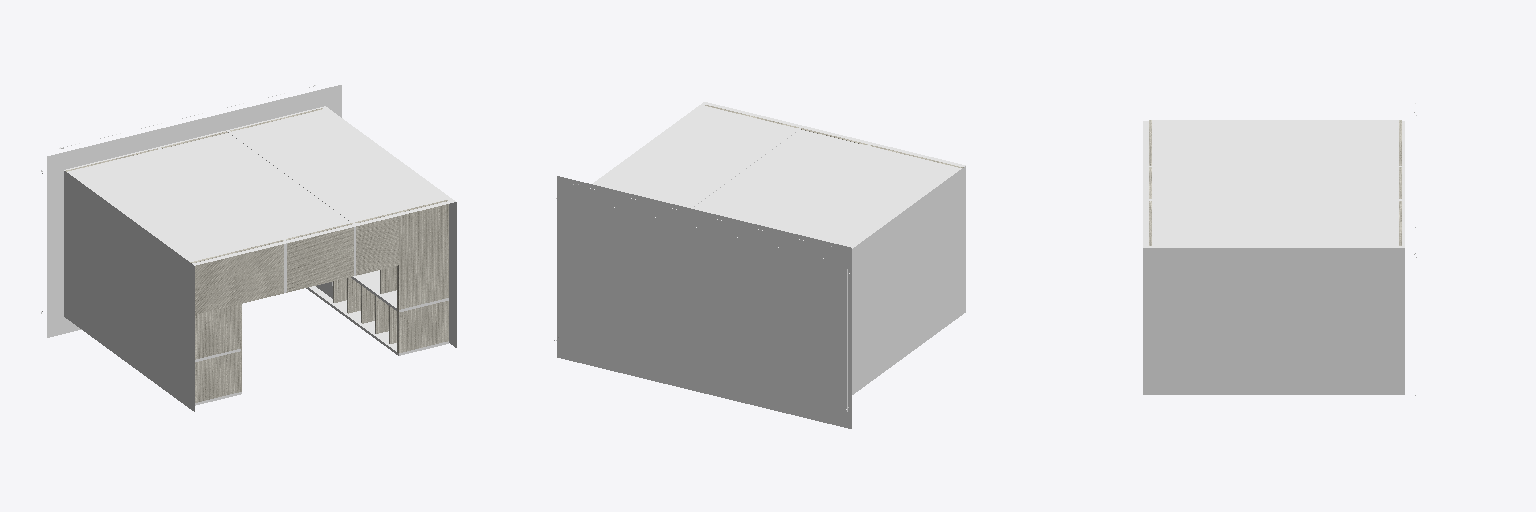
3 renders of one model, left to right at view 1: azimuth 30°, elevation 25°; view 2: azimuth 150°, elevation 25°; view 3: azimuth 270°, elevation 25°, orthographic.
Parts seen in each view (by area): view 1: Object_346, Object_187, Object_134, Object_344, Object_347, Object_180, Object_126, Object_163, Object_353, Object_179, Object_125, Object_217 (+4 smaller); view 2: Object_343, Object_346, Object_187, Object_134, Object_344, Object_351, Object_347, Object_349, Object_353; view 3: Object_345, Object_134, Object_187, Object_344.
Part boxes in pixels (x1,y1,x2,y2): Object_346: (64, 171, 194, 411); Object_187: (232, 109, 446, 221); Object_134: (68, 149, 282, 261); Object_344: (64, 106, 455, 265); Object_347: (47, 85, 341, 169); Object_180: (399, 200, 448, 309); Object_126: (190, 240, 283, 314); Object_163: (286, 223, 353, 291); Object_353: (47, 157, 63, 336); Object_179: (355, 212, 398, 274); Object_125: (195, 304, 240, 359); Object_217: (399, 301, 448, 352); Object_343: (574, 198, 834, 407); Object_346: (852, 166, 965, 394); Object_187: (597, 106, 797, 207); Object_134: (761, 146, 959, 247); Object_344: (593, 102, 965, 258); Object_351: (557, 344, 851, 428); Object_347: (557, 176, 851, 260); Object_349: (557, 177, 573, 356); Object_353: (835, 249, 851, 427); Object_345: (1143, 248, 1404, 394); Object_134: (1152, 121, 1398, 165); Object_187: (1152, 201, 1398, 245); Object_344: (1143, 121, 1404, 247).
Bounding box in the file's own units: 3533 × 2088 × 2817.
Materials: 12 (1 with a texture image).